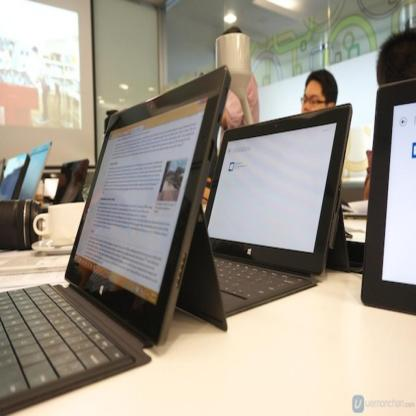board: (0, 64, 230, 416), (205, 105, 352, 319)
